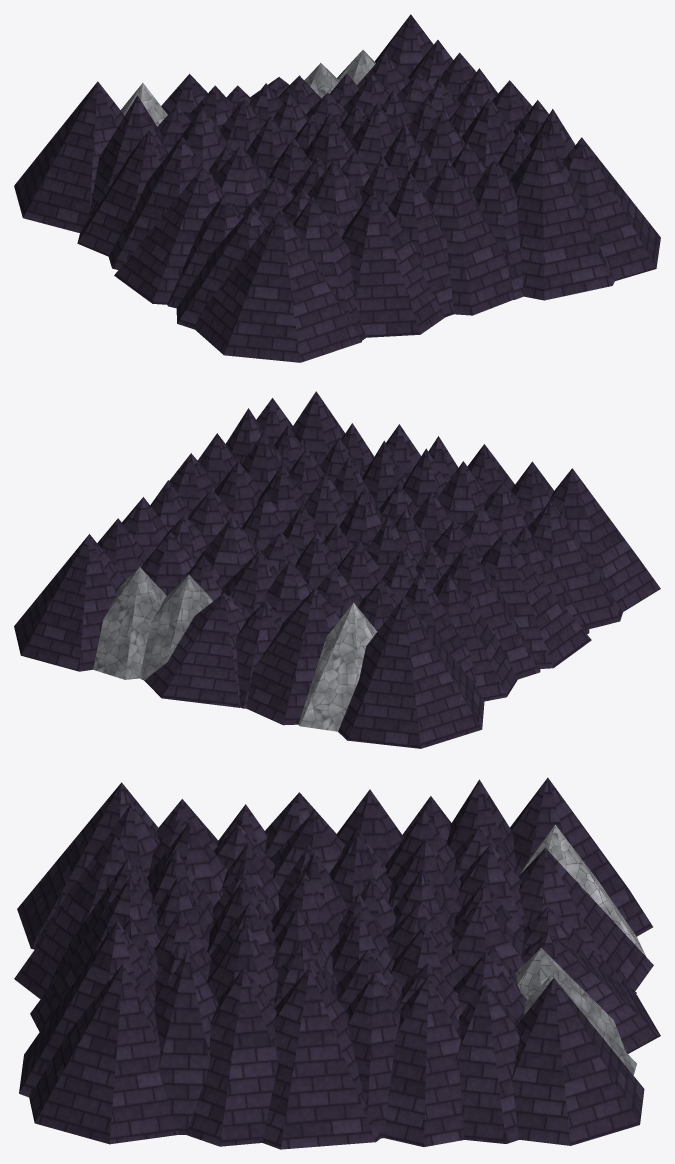
File: chunk_2_23.glb
The picture shows the model from 3 angles, top to bottom: view 1: azimuth 30°, elevation 25°; view 2: azimuth 150°, elevation 25°; view 3: azimuth 270°, elevation 25°; orthographic projection. The views are drawn at different scales.
Parts seen in each view (by area): view 1: chunk_2_23; view 2: chunk_2_23; view 3: chunk_2_23.
Part boxes in pixels (box(x1,y1,x2,y2)): chunk_2_23: box(14, 14, 660, 362); chunk_2_23: box(14, 391, 660, 748); chunk_2_23: box(14, 777, 660, 1149).
Bounding box in the file's own units: 21.55 × 5.69 × 21.34.
Materials: 6 (6 with a texture image).
